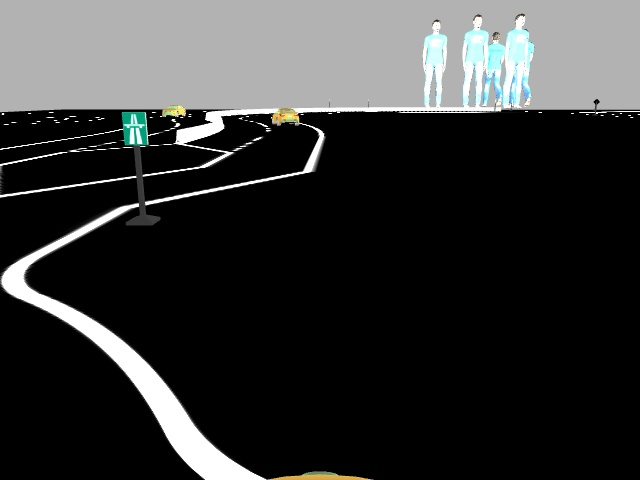HighwayEntrance: (118, 109, 150, 148)
